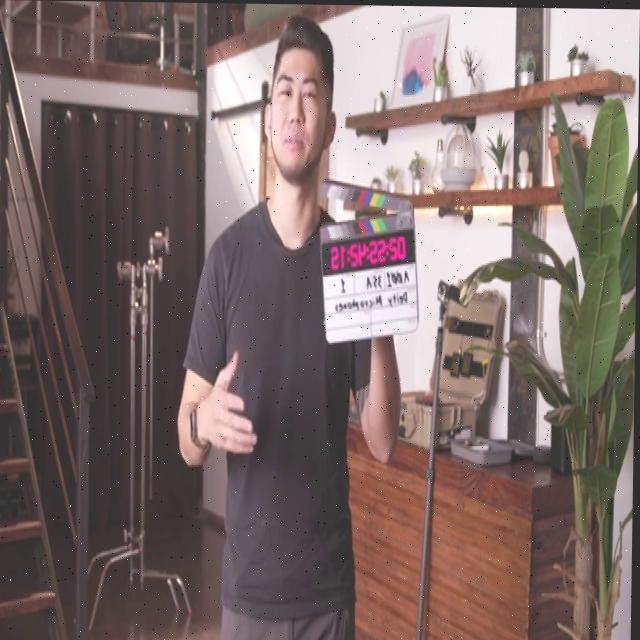Clapperboard: (319, 175, 421, 348)
